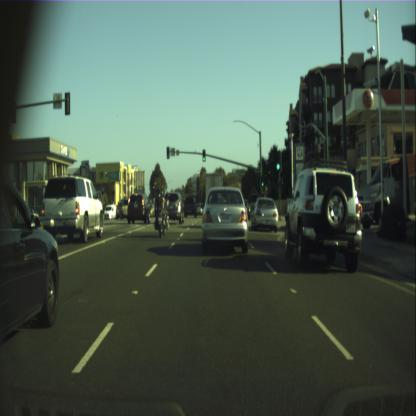Green: (275, 150, 280, 170), (202, 148, 206, 162), (261, 175, 264, 187)
GreenLeft: (166, 146, 170, 158)
